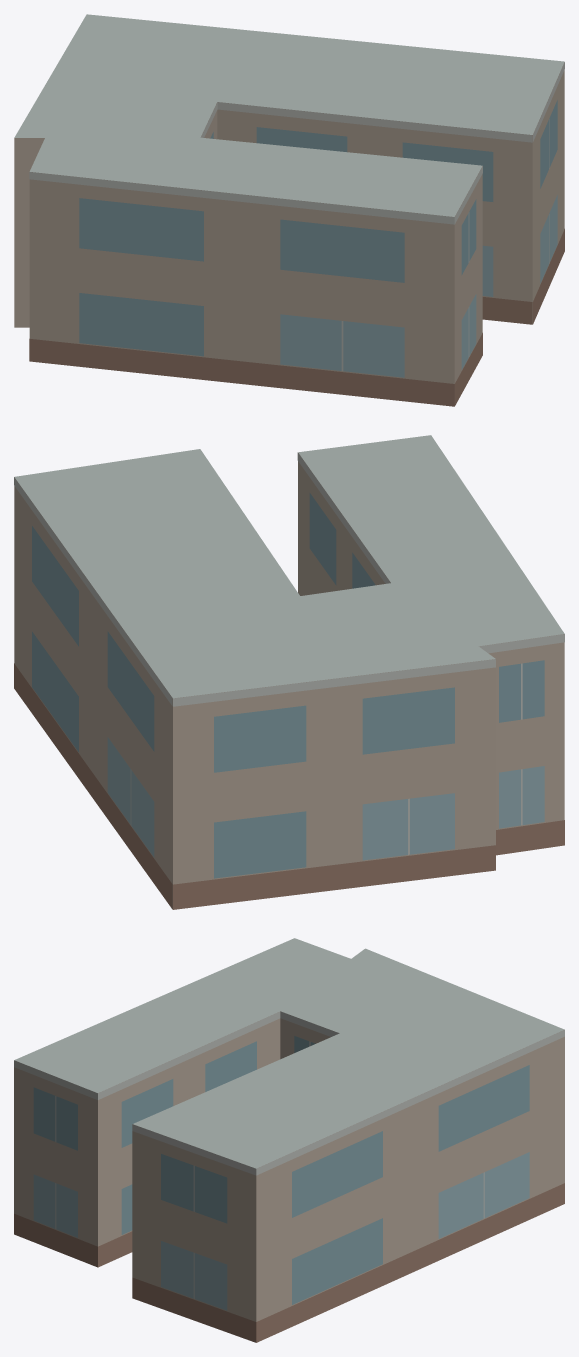
The model's file is survey-upis-32905803.glb.
The picture shows the model from 3 angles, top to bottom: view 1: azimuth 30°, elevation 25°; view 2: azimuth 150°, elevation 25°; view 3: azimuth 270°, elevation 25°; orthographic projection. The views are drawn at different scales.
Visible parts, largest first — view 1: survey-upis-32905803.tmp; view 2: survey-upis-32905803.tmp; view 3: survey-upis-32905803.tmp.
Boxes of the visible parts, x1,y1,x2,y2 form: survey-upis-32905803.tmp: (14,14,564,406); survey-upis-32905803.tmp: (14,435,564,909); survey-upis-32905803.tmp: (14,938,564,1342).
Bounding box in the file's own units: 17.33 × 6.1 × 17.49.
